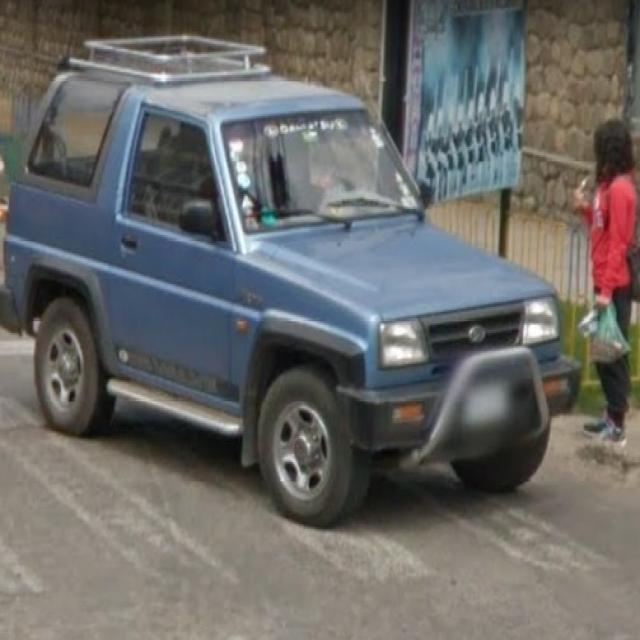cars: (6, 39, 580, 516)
